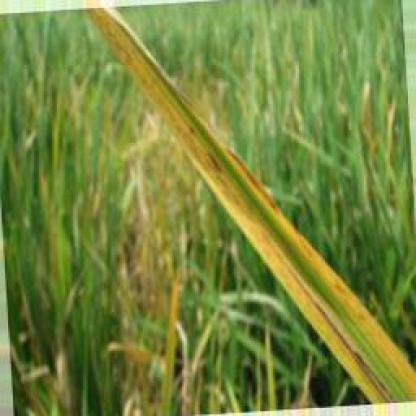Tungro: (87, 6, 415, 411)
